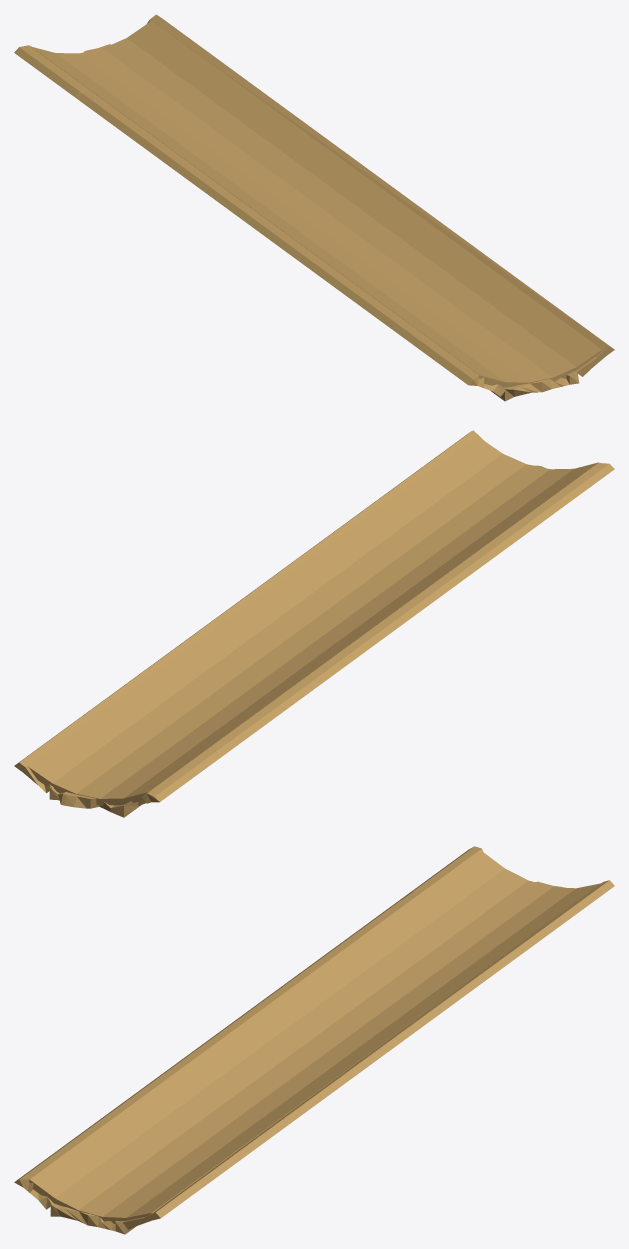
Rendered from bridge.fbx.
3 views of the same model, one above another, from view 1: azimuth 30°, elevation 25°; view 2: azimuth 150°, elevation 25°; view 3: azimuth 330°, elevation 25° (orthographic).
Visible parts, largest first — view 1: 圆柱_2; view 2: 圆柱_2; view 3: 圆柱_2.
Boxes of the visible parts, bbox=[...] form: 圆柱_2: bbox=[14, 14, 614, 401]; 圆柱_2: bbox=[14, 430, 614, 817]; 圆柱_2: bbox=[14, 846, 614, 1234].
Size of the model in its own units: 35.81 by 7 by 194.
